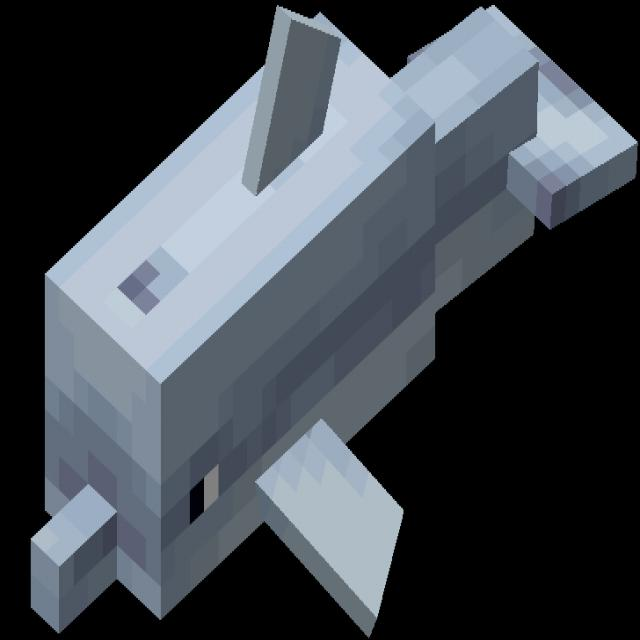Dolphin: (29, 0, 638, 638)
